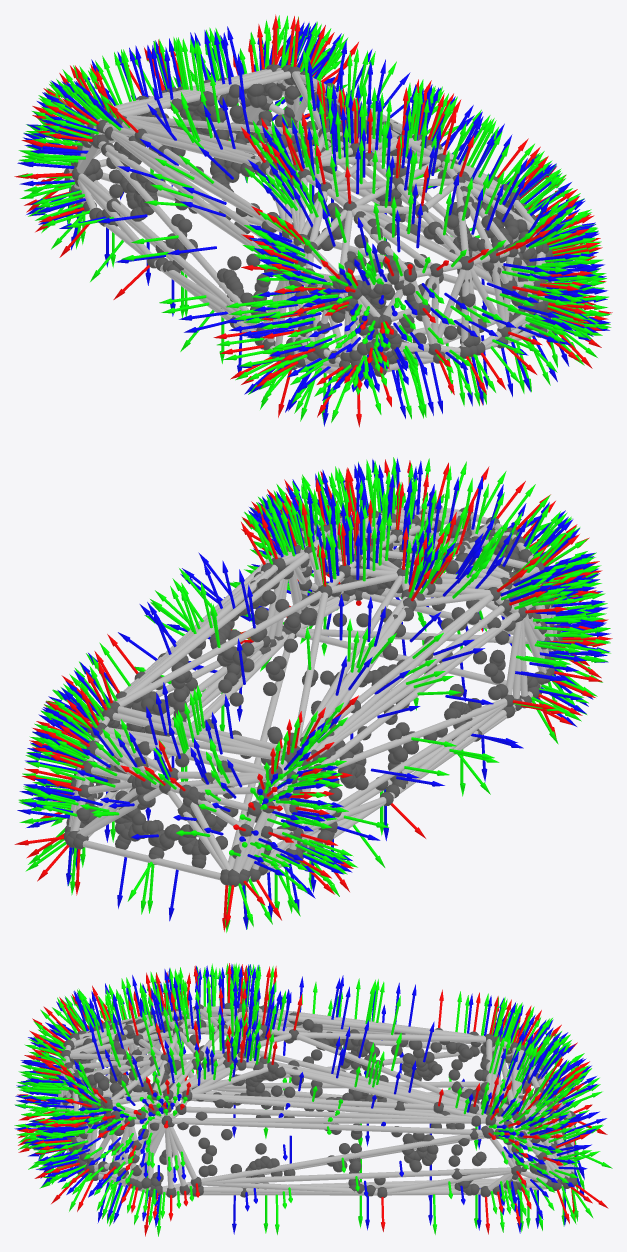
File: robbins_car1.gltf
3 views of the same model, one above another, from view 1: azimuth 30°, elevation 25°; view 2: azimuth 150°, elevation 25°; view 3: azimuth 270°, elevation 25° (orthographic). The views are drawn at different scales.
Bounding box in the file's own units: 0.557 × 0.3913 × 1.03.
